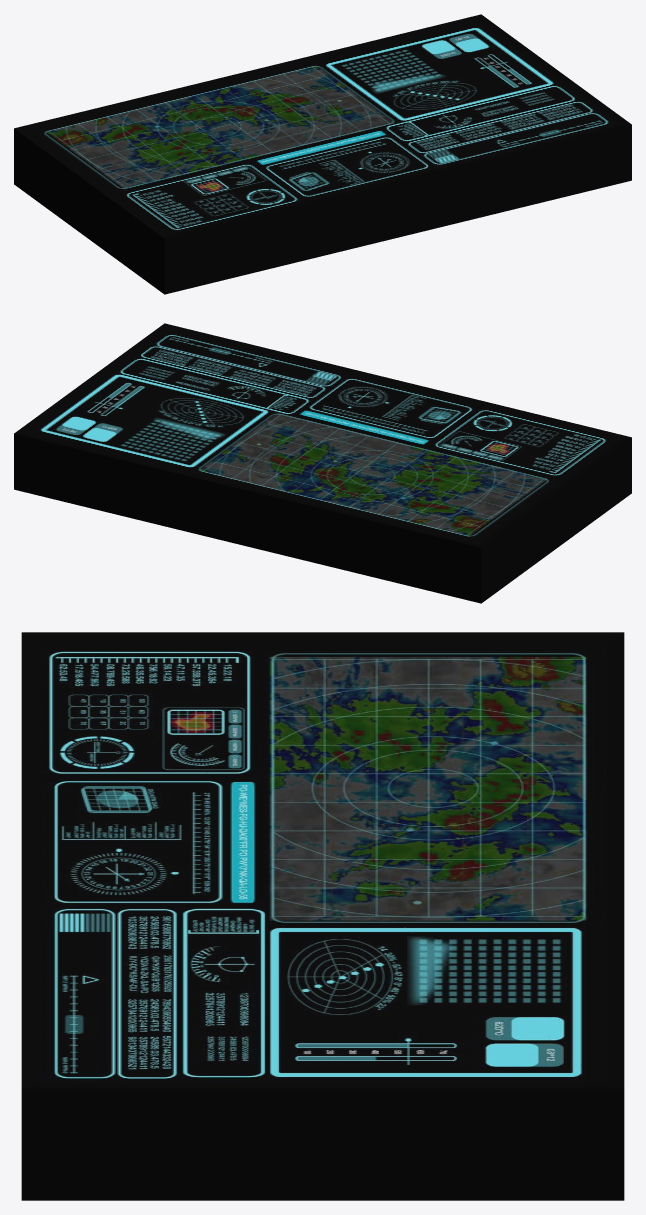
File: big_panel.fbx
3 views of the same model, one above another, from view 1: azimuth 30°, elevation 25°; view 2: azimuth 150°, elevation 25°; view 3: azimuth 270°, elevation 25° (orthographic). The views are drawn at different scales.
Visible parts, largest first — view 1: pCube1; view 2: pCube1; view 3: pCube1.
Part boxes in pixels (x1=…): pCube1: x1=14, y1=14, x2=631, y2=294; pCube1: x1=14, y1=323, x2=631, y2=603; pCube1: x1=21, y1=632, x2=624, y2=1200.
Size of the model in its own units: 18.51 by 2.12 by 10.33.
